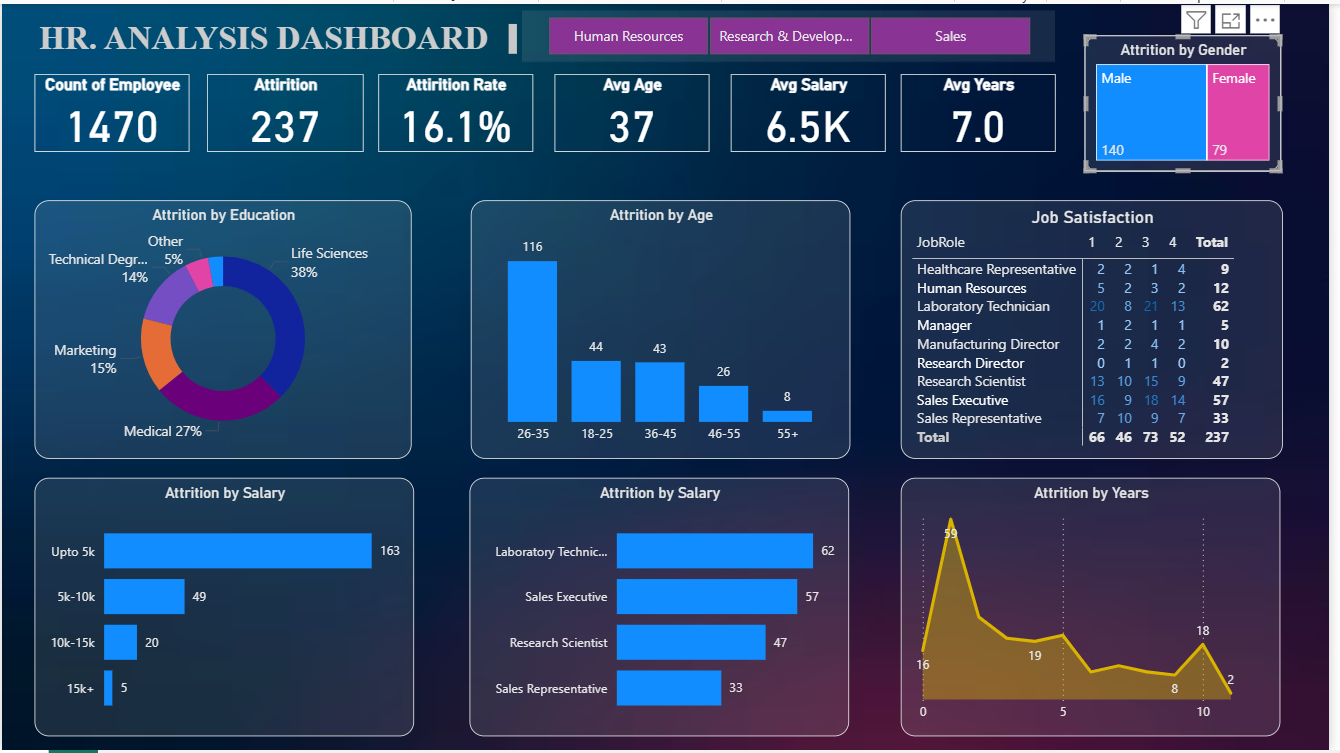

Layout of this report page (visuals, bound fields, positions):
{"tool":"powerbi","page":{"name":"Page 1","canvas":[1280,720],"ordinal":0},"visuals":[{"type":"card","title":"Count of Employee","fields":{"Values":["CountNonNull(HR_Analytics.EmpID)"]},"box":[31.3,67.2,149.6,75.5],"z":0},{"type":"card","title":"Attirition","fields":{"Values":["Sum(HR_Analytics.AttritionCount)"]},"box":[197.6,67.2,150.9,75.5],"z":1000},{"type":"card","title":"Attirition Rate","fields":{"Values":["HR_Analytics.AttritionRate"]},"box":[363.6,67.2,149.6,75.5],"z":2000},{"type":"card","title":"Avg Age","fields":{"Values":["Avg(HR_Analytics.Age)"]},"box":[533.8,67.2,149.6,75.5],"z":3000},{"type":"card","title":"Avg Salary ","fields":{"Values":["Avg(HR_Analytics.MonthlyIncome)"]},"box":[703.9,67.2,149.6,75.5],"z":4000},{"type":"card","title":"Avg Years","fields":{"Values":["Avg(HR_Analytics.YearsAtCompany)"]},"box":[867.2,67.2,149.6,75.5],"z":5000},{"type":"donutChart","title":"Attrition by Education","fields":{"Category":["HR_Analytics.EducationField"],"Y":["Sum(HR_Analytics.AttritionCount)"]},"box":[31.3,189.4,363.6,249.7],"z":6000},{"type":"columnChart","title":"Attrition by Age","fields":{"Category":["HR_Analytics.AgeGroup"],"Y":["Sum(HR_Analytics.AttritionCount)"]},"box":[452.6,189.4,366.4,249.7],"z":7000},{"type":"pivotTable","title":"Job Satisfaction ","fields":{"Rows":["HR_Analytics.JobRole"],"Columns":["HR_Analytics.JobSatisfaction"],"Values":["Sum(HR_Analytics.AttritionCount)"]},"box":[867,189.4,369.1,249.7],"z":8000},{"type":"clusteredBarChart","title":"Attrition by Salary","fields":{"Category":["HR_Analytics.SalarySlab"],"Y":["Sum(HR_Analytics.AttritionCount)"]},"box":[31.6,456.9,366.4,249.7],"z":9000},{"type":"clusteredBarChart","title":"Attrition by Salary","fields":{"Category":["HR_Analytics.JobRole"],"Y":["Sum(HR_Analytics.AttritionCount)"]},"box":[451.5,456.9,366.4,249.7],"z":10000},{"type":"areaChart","title":"Attrition by Years","fields":{"Category":["HR_Analytics.YearsAtCompany"],"Y":["Sum(HR_Analytics.AttritionCount)"]},"box":[867.2,456.9,366.4,249.7],"z":11000},{"type":"treemap","title":"Attrition by Gender","fields":{"Group":["HR_Analytics.Gender"],"Values":["Sum(HR_Analytics.AttritionCount)"]},"box":[1044.3,30.2,189.4,131.7],"z":12000},{"type":"slicer","fields":{"Values":["HR_Analytics.Department"]},"box":[502.2,5.5,514.6,49.4],"z":13000},{"type":"textbox","box":[31.6,12.3,470.7,42.5],"z":14000}]}

Visuals, with their boxes in screenshot pixels (x1, y1, x2, y2), scaled from the page's 1280x720 canvas onto the 1340x753 screenshot:
"Count of Employee" card: 33, 70, 189, 149
"Attirition" card: 207, 70, 365, 149
"Attirition Rate" card: 381, 70, 537, 149
"Avg Age" card: 559, 70, 715, 149
"Avg Salary " card: 737, 70, 894, 149
"Avg Years" card: 908, 70, 1064, 149
"Attrition by Education" donutChart: 33, 198, 413, 459
"Attrition by Age" columnChart: 474, 198, 857, 459
"Job Satisfaction " pivotTable: 908, 198, 1294, 459
"Attrition by Salary" clusteredBarChart: 33, 478, 417, 739
"Attrition by Salary" clusteredBarChart: 473, 478, 856, 739
"Attrition by Years" areaChart: 908, 478, 1291, 739
"Attrition by Gender" treemap: 1093, 32, 1292, 169
slicer - HR_Analytics.Department: 526, 6, 1064, 57
textbox: 33, 13, 526, 57
